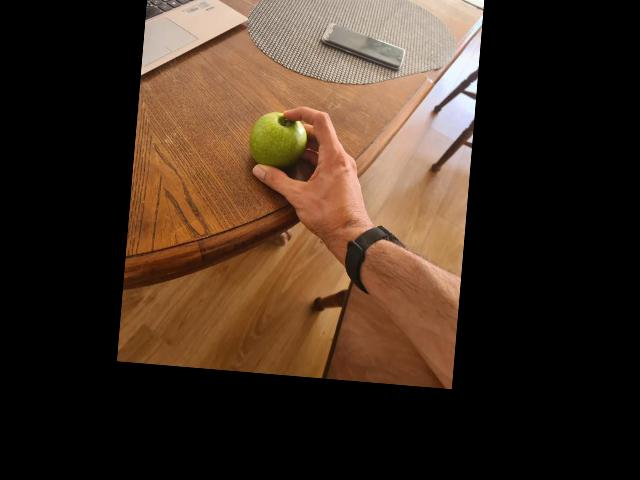apple: (245, 110, 305, 172)
